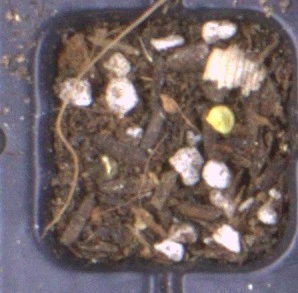chilli seed: (205, 104, 236, 135)
